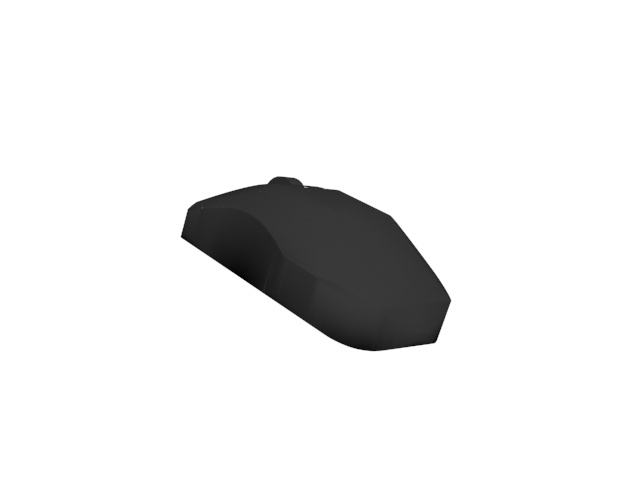mouse: (177, 177, 456, 352)
